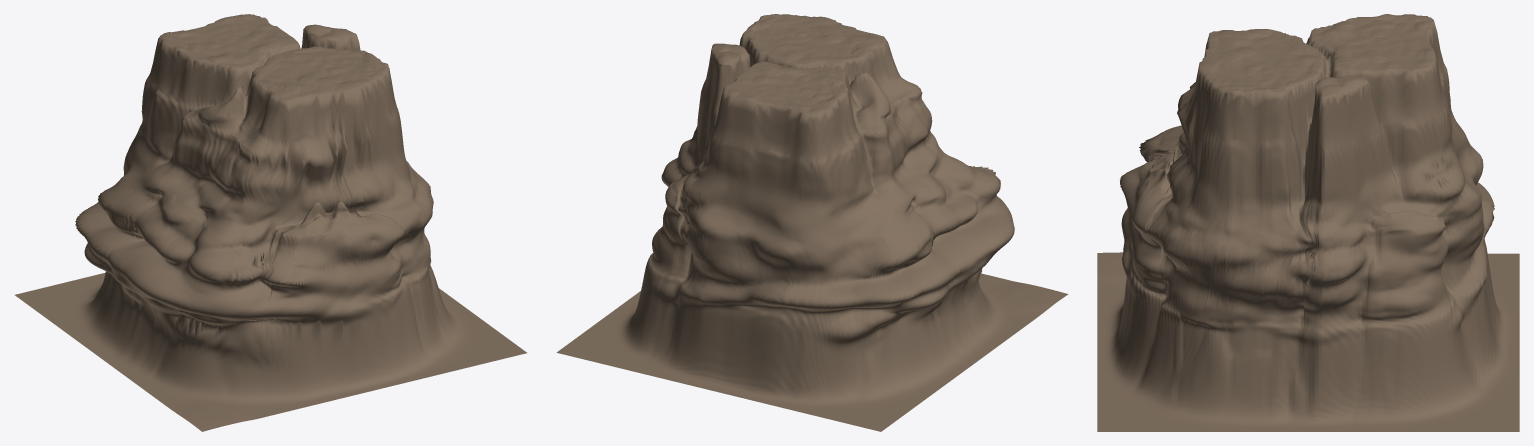
The model's file is mountain.glb.
The picture shows the model from 3 angles, left to right: view 1: azimuth 30°, elevation 25°; view 2: azimuth 150°, elevation 25°; view 3: azimuth 270°, elevation 25°; orthographic projection. The views are drawn at different scales.
Visible parts, largest first — view 1: Landscape; view 2: Landscape; view 3: Landscape.
Part boxes in pixels (<box>): Landscape: <box>15,14,526,431</box>; Landscape: <box>556,14,1068,431</box>; Landscape: <box>1097,14,1519,431</box>.
Size of the model in its own units: 2 by 1.57 by 2.
